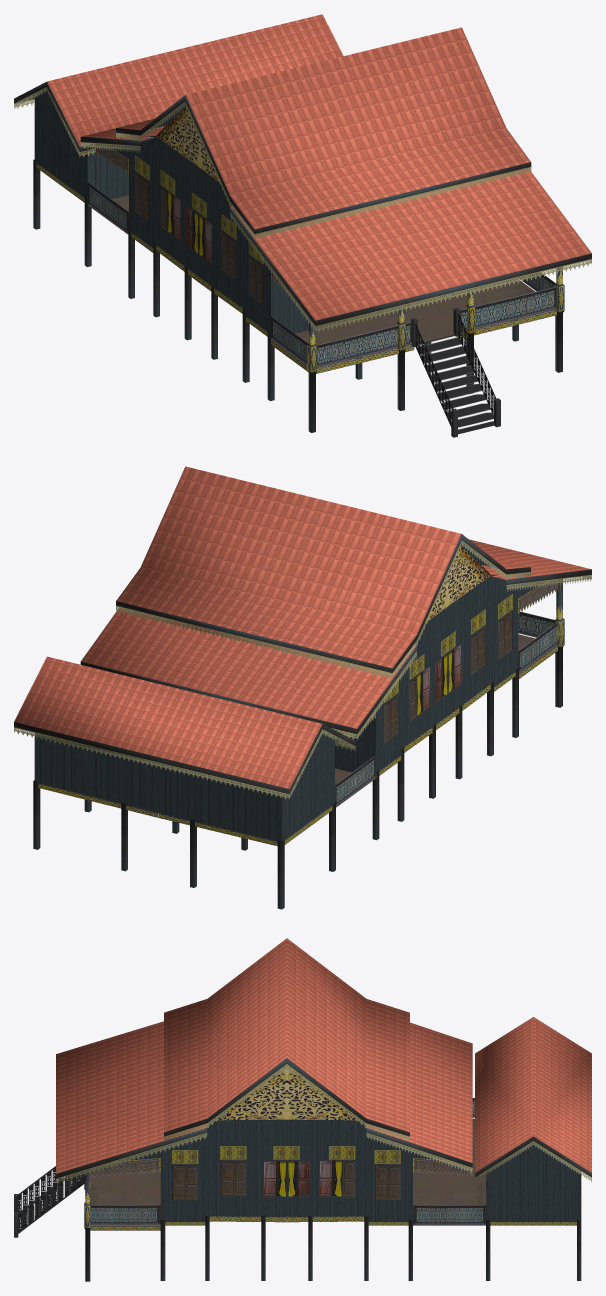
Rendered from rumahadat-web.glb.
3 views of the same model, one above another, from view 1: azimuth 30°, elevation 25°; view 2: azimuth 150°, elevation 25°; view 3: azimuth 270°, elevation 25° (orthographic). The views are drawn at different scales.
Visible parts, largest first — view 1: Plane.005, Plane.006, Plane.004, Plane.021, Plane.022, Cube.014, Cube.005, Cube.006, Plane.011, Cube.008, Cube.007, Plane.012 (+3 smaller); view 2: Plane.005, Plane.021, Plane.006, Plane.004, Plane.022, Cube.017, Cube.016, Plane.011, Cube.008, Cube.007, Cube.006, Cube.014 (+4 smaller); view 3: Plane.004, Plane.005, Plane.006, Plane.021, Plane.022, Plane.011, Plane.012, Plane.009, Plane.010, Plane.013, Cube.006, Cube.014 (+2 smaller).
Part boxes in pixels (bbox=[...]): Plane.005: bbox=[116, 27, 531, 238]; Plane.006: bbox=[80, 125, 591, 331]; Plane.004: bbox=[87, 106, 556, 434]; Plane.021: bbox=[14, 14, 343, 157]; Plane.022: bbox=[34, 87, 128, 202]; Cube.014: bbox=[307, 267, 564, 432]; Cube.005: bbox=[396, 289, 475, 410]; Cube.006: bbox=[128, 229, 518, 401]; Plane.011: bbox=[186, 207, 211, 262]; Cube.008: bbox=[184, 266, 217, 359]; Cube.007: bbox=[153, 243, 249, 382]; Plane.012: bbox=[160, 185, 180, 239]; Plane.005: bbox=[116, 466, 530, 678]; Plane.021: bbox=[14, 656, 355, 799]; Plane.006: bbox=[80, 539, 591, 740]; Plane.004: bbox=[335, 546, 558, 807]; Plane.022: bbox=[34, 730, 334, 846]; Cube.017: bbox=[121, 802, 247, 887]; Cube.016: bbox=[33, 780, 284, 909]; Plane.011: bbox=[435, 645, 461, 701]; Cube.008: bbox=[429, 705, 462, 798]; Cube.007: bbox=[397, 682, 493, 821]; Cube.006: bbox=[372, 668, 518, 840]; Cube.014: bbox=[554, 579, 564, 707]; Plane.004: bbox=[18, 1065, 486, 1233]; Plane.005: bbox=[164, 938, 409, 1141]; Plane.006: bbox=[56, 1021, 472, 1183]; Plane.021: bbox=[475, 1017, 591, 1182]; Plane.022: bbox=[486, 1141, 580, 1225]; Plane.011: bbox=[264, 1161, 309, 1196]; Plane.012: bbox=[319, 1160, 354, 1196]; Plane.009: bbox=[221, 1160, 246, 1195]; Plane.010: bbox=[172, 1165, 197, 1199]; Plane.013: bbox=[375, 1165, 400, 1199]; Cube.006: bbox=[160, 1220, 412, 1280]; Cube.014: bbox=[84, 1169, 90, 1281].
Bounding box in the file's own units: 3.07 × 2.74 × 6.26.
Materials: 1 (1 with a texture image).
